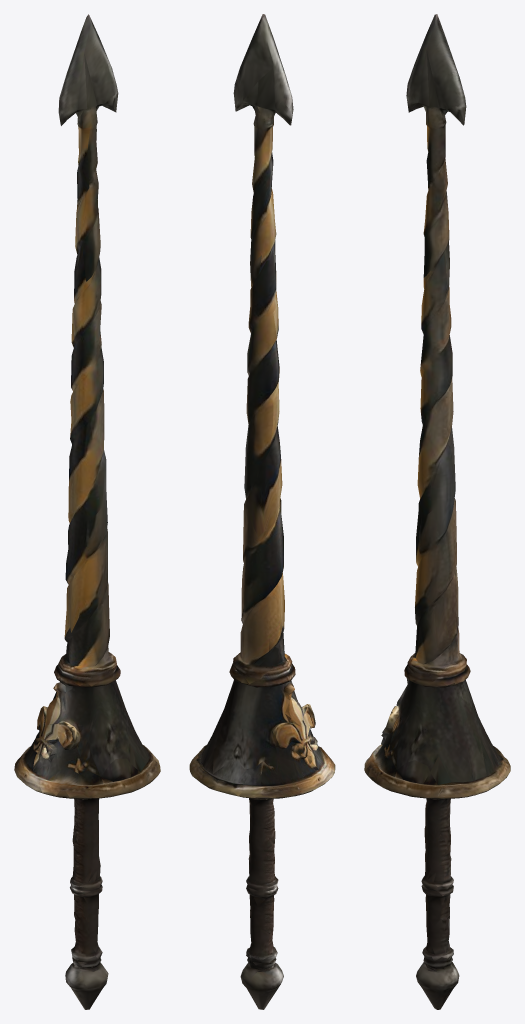
The model's file is gold_jousting_lance.glb.
3 renders of one model, left to right at view 1: azimuth 30°, elevation 25°; view 2: azimuth 150°, elevation 25°; view 3: azimuth 330°, elevation 25°, orthographic.
Parts seen in each view (by area): view 1: gold_jousting_lance; view 2: gold_jousting_lance; view 3: gold_jousting_lance.
Boxes of the visible parts, x1=… form: gold_jousting_lance: x1=14, y1=14, x2=160, y2=1009; gold_jousting_lance: x1=189, y1=14, x2=335, y2=1009; gold_jousting_lance: x1=364, y1=14, x2=510, y2=1009.
Bounding box in the file's own units: 0.3954 × 3 × 0.3854.
1 material, 1 textured.
